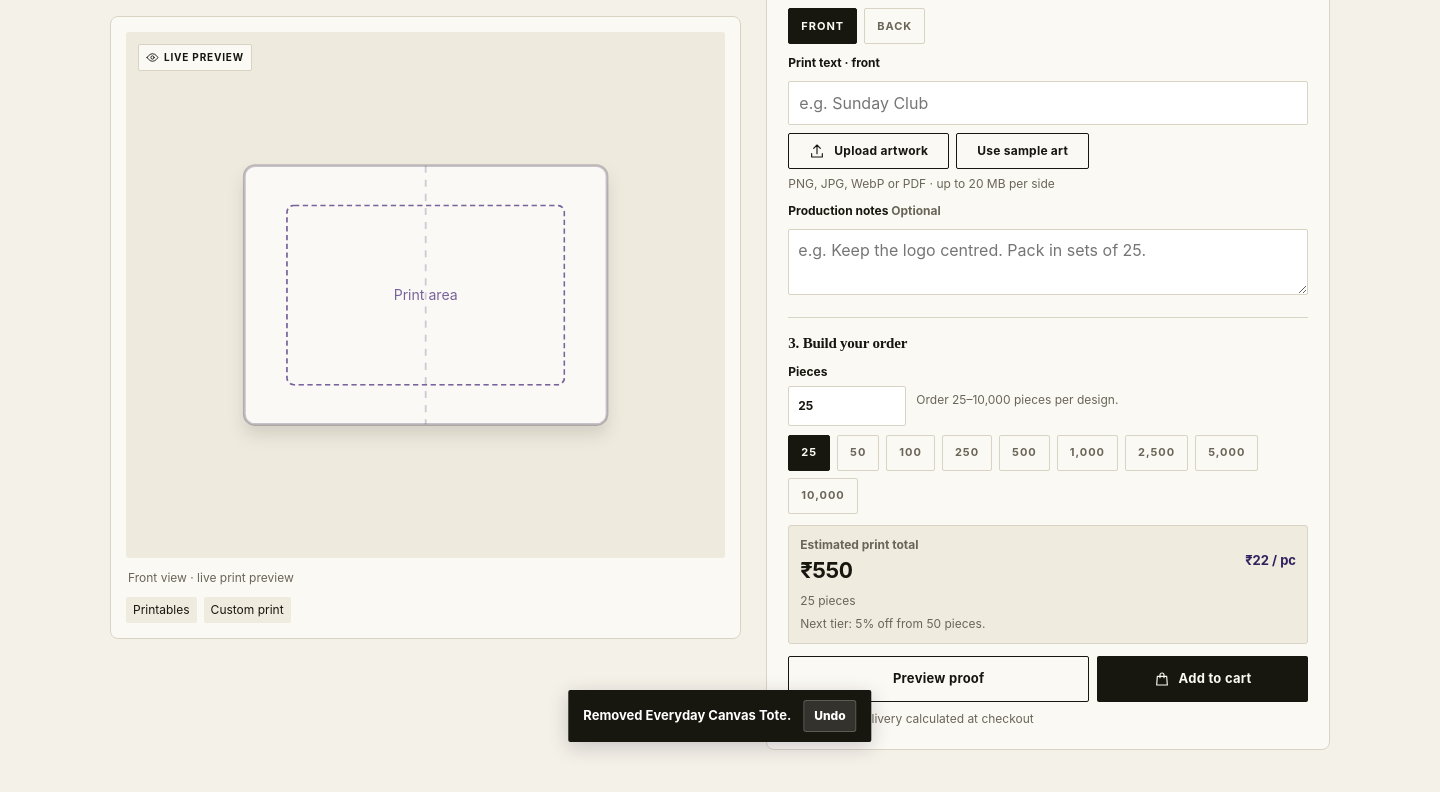
customer flow › validates quantity and shows bulk discount tiers
The image size is (1440, 792).
(page scrolled)
Replace the text in the number field with id "bulk-qty" with "10". click: (847, 406)
box: [788,386,906,426]
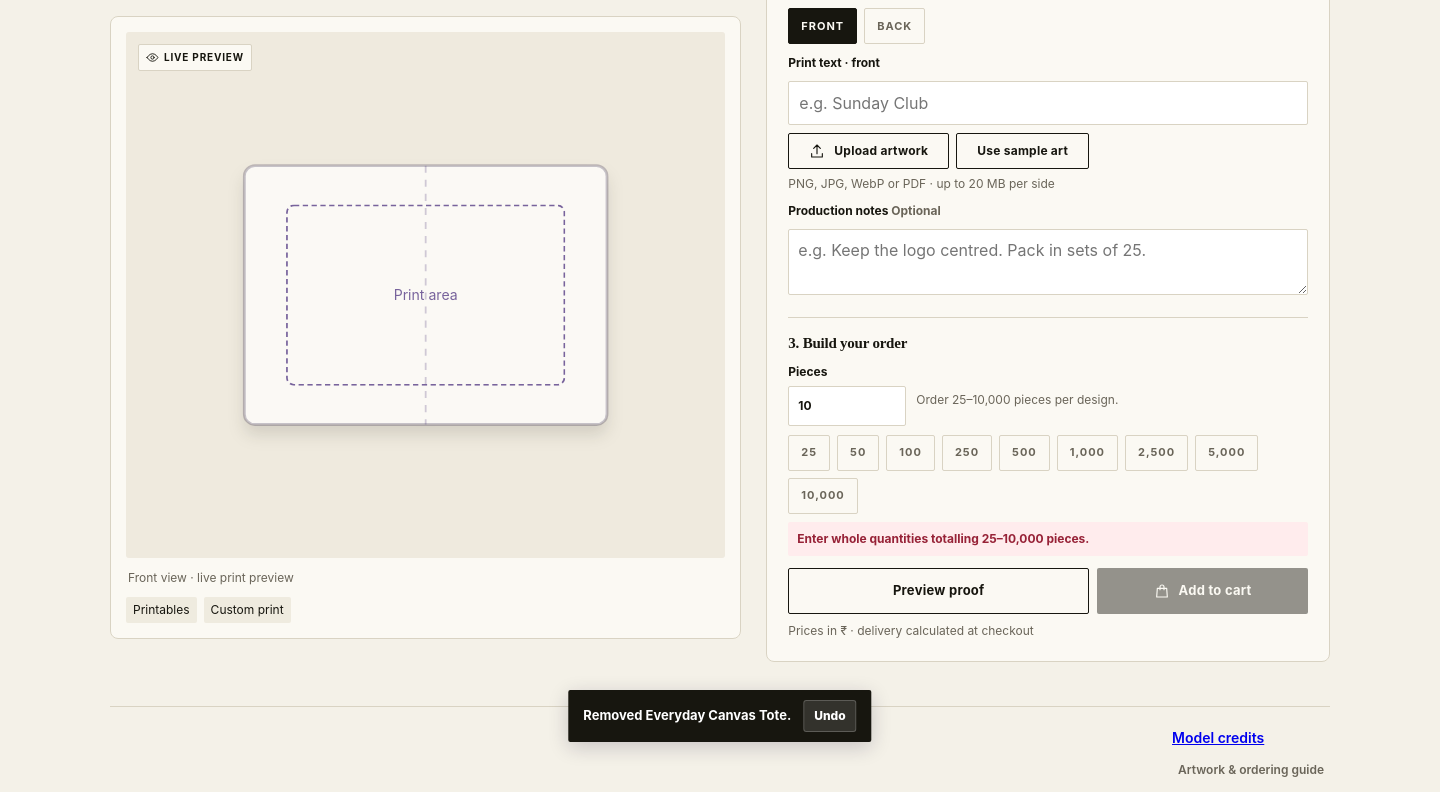
expect the element showing "Enter whole quantities totalling 25–10,000 pieces." is shown: met, box [788,522,1308,556]
expect the button "Add to cart" is disabled: met, box [1097,568,1308,614]
Replace the text in the number field with id "bulk-qty" with "250". click: (847, 406)
box: [788,386,906,426]
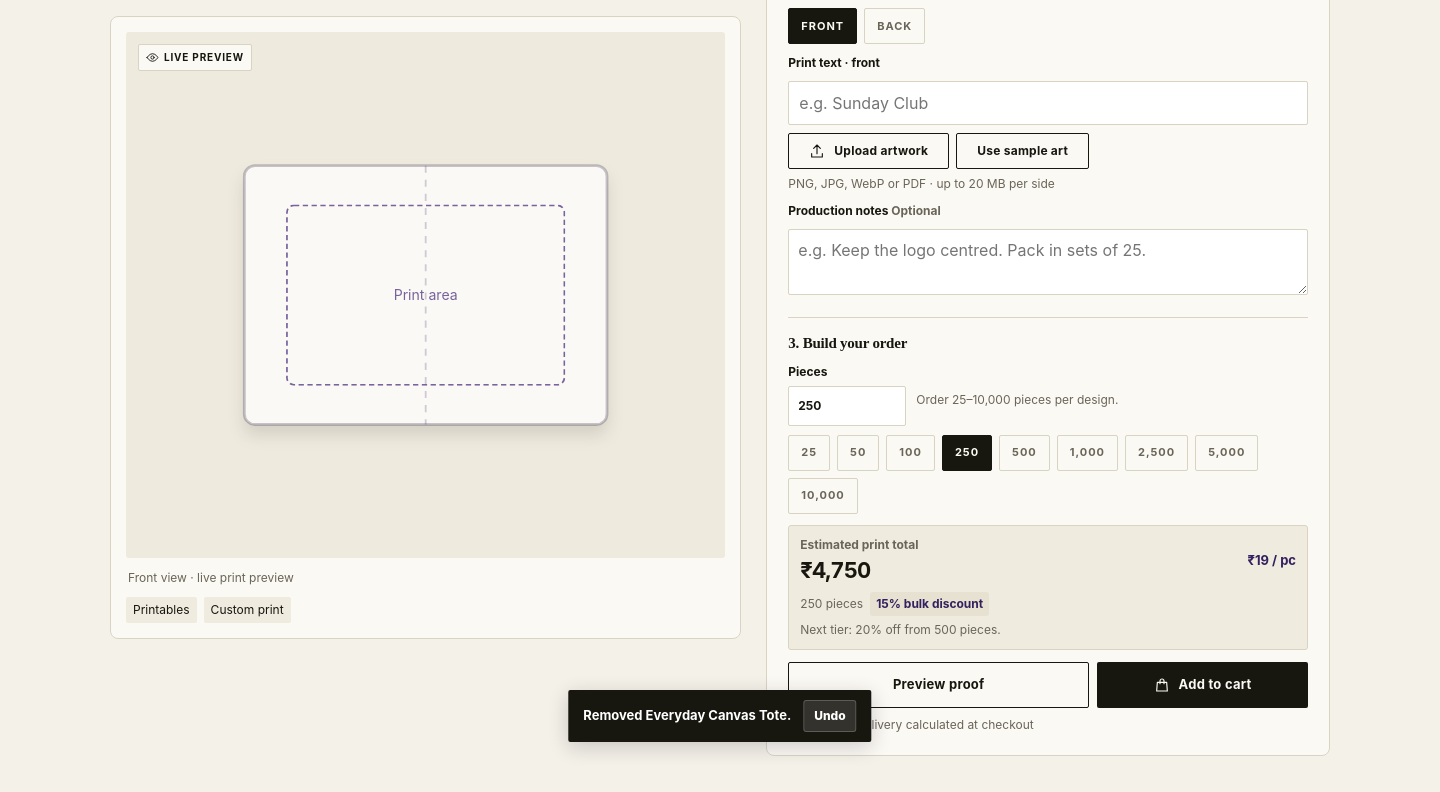
expect the element that starts with "Estimated print total" shows "15% bulk discount": met, box [788,525,1308,650]
